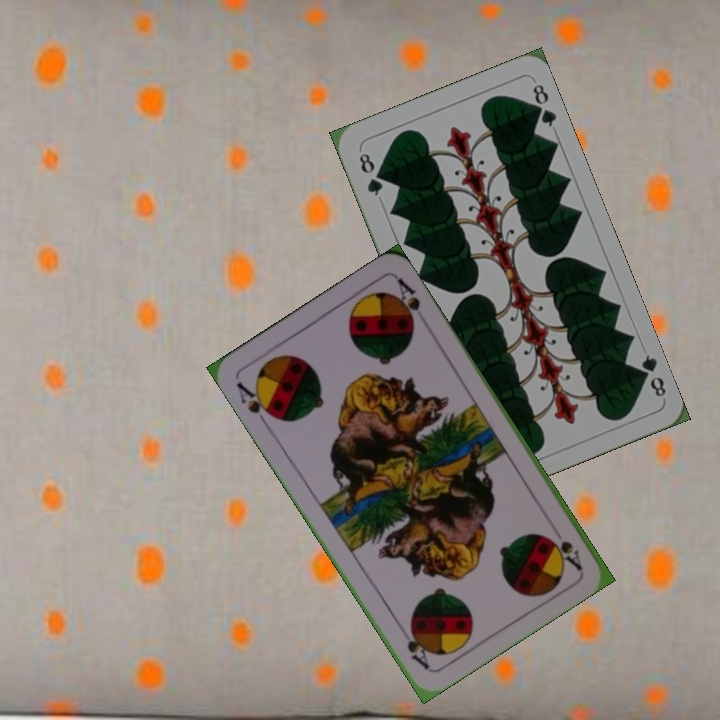G8: (632, 350, 669, 400), (354, 149, 386, 199)
SA: (232, 377, 279, 429), (546, 533, 585, 573)
